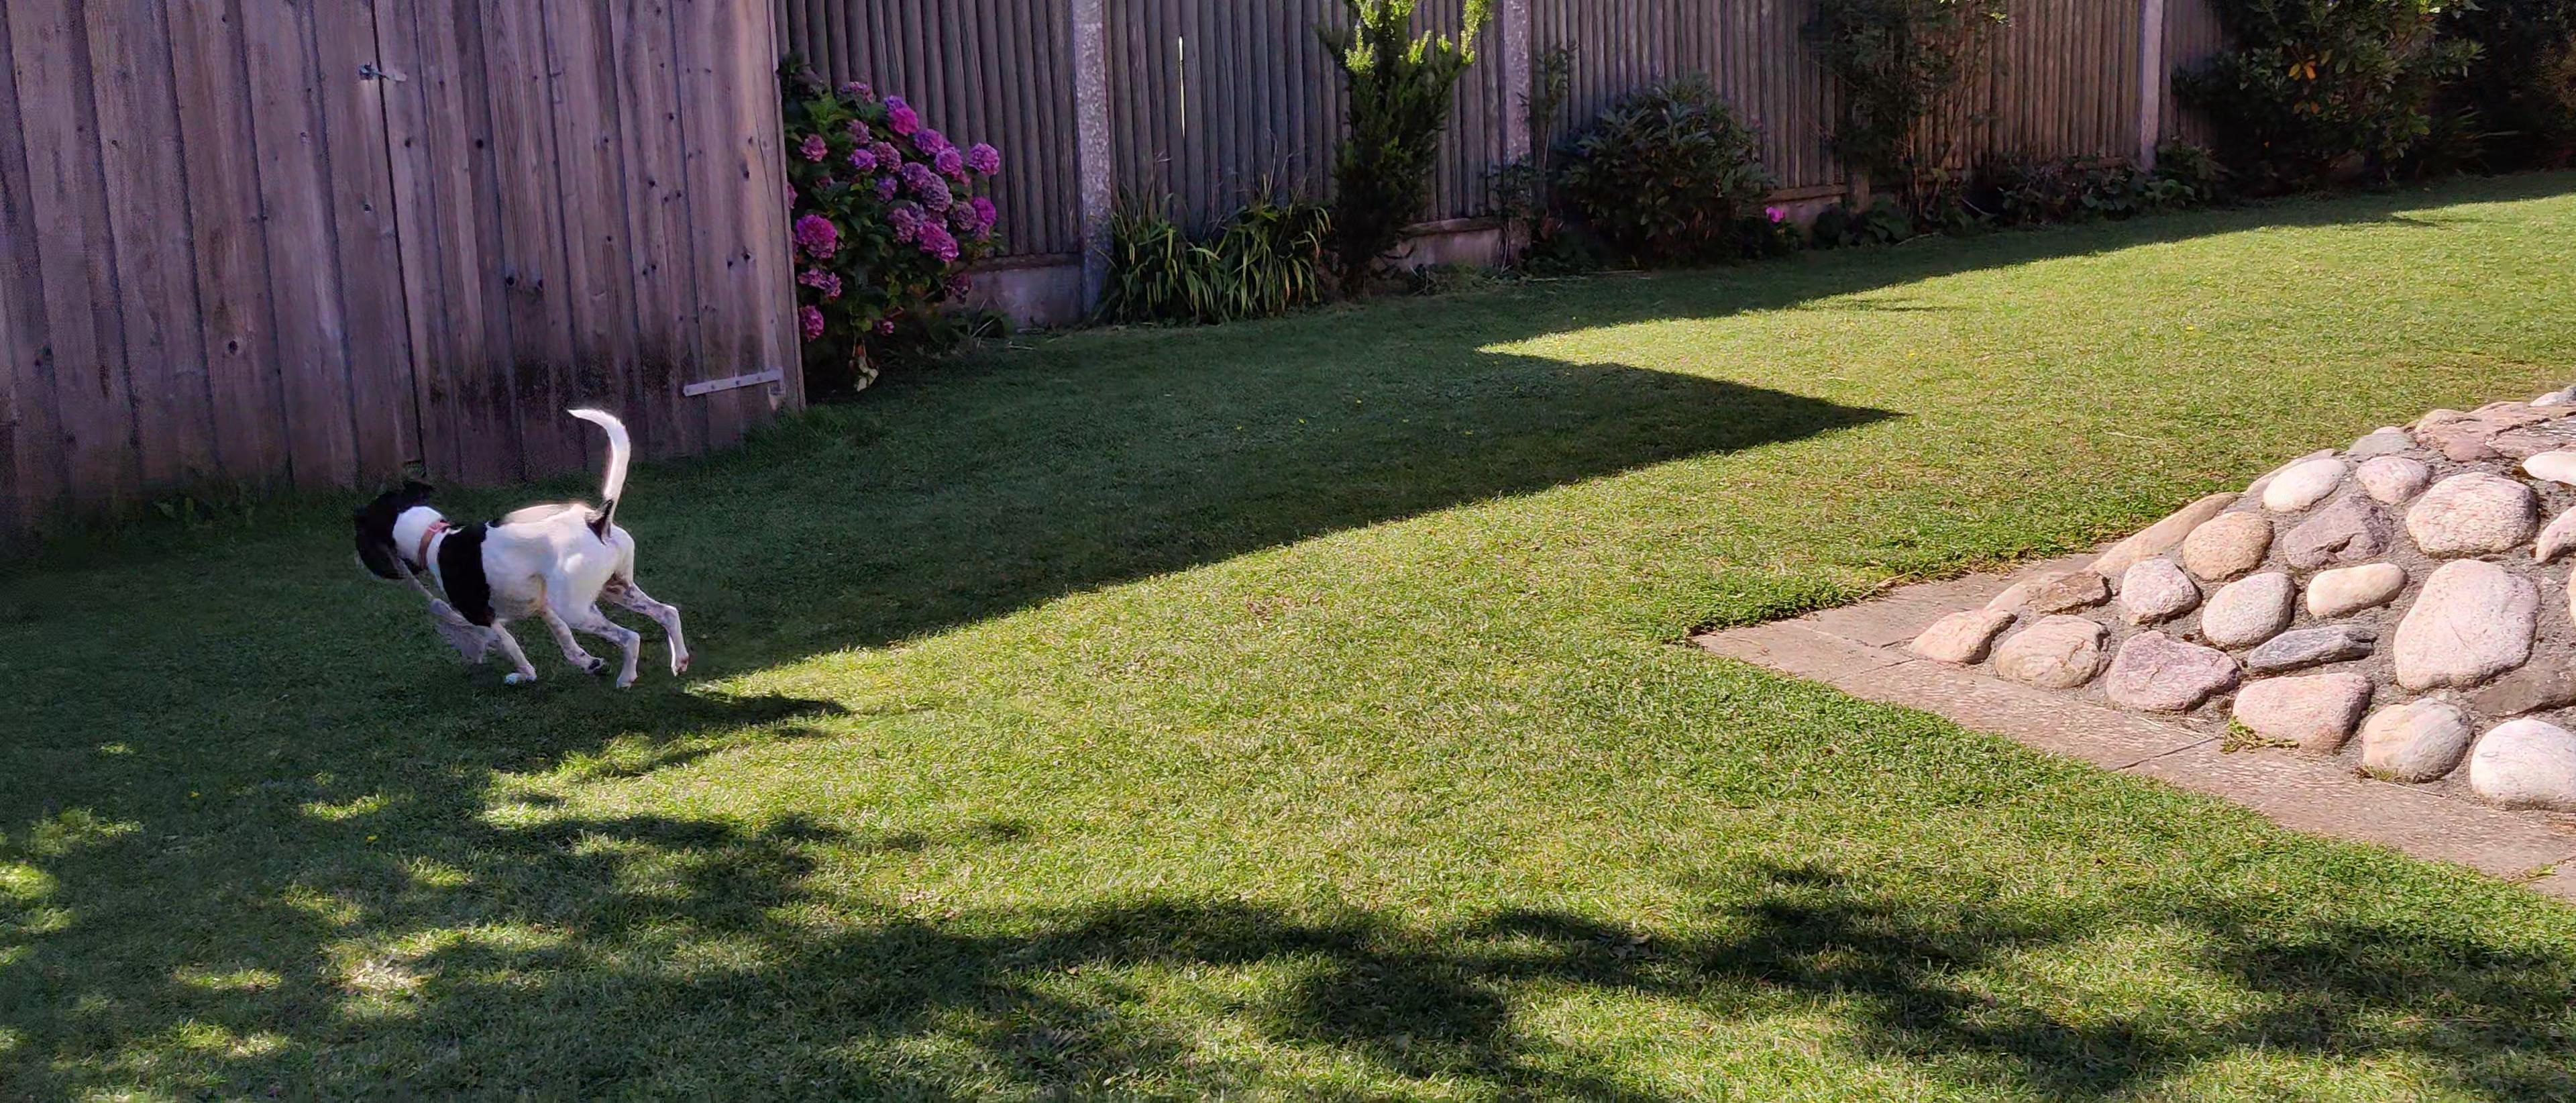Dog: (330, 388, 724, 705)
